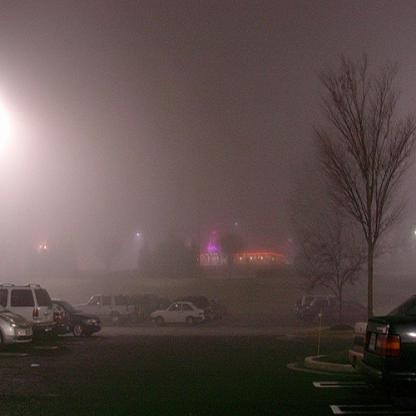car: (364, 293, 415, 385), (0, 283, 56, 342), (72, 291, 134, 325), (52, 298, 102, 338), (0, 303, 33, 350), (149, 300, 204, 326)
